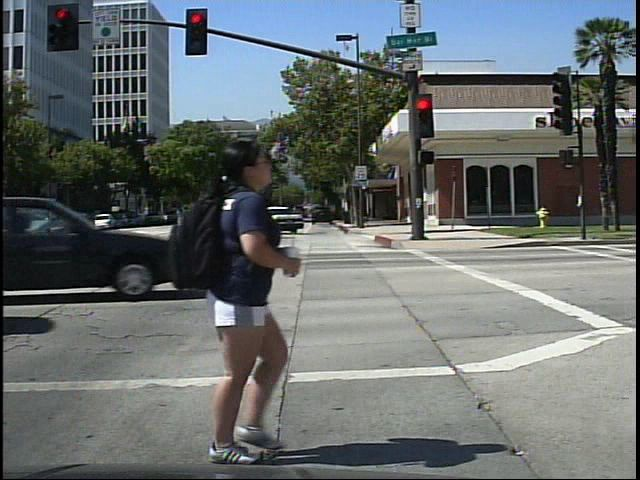person: (143, 127, 338, 469)
